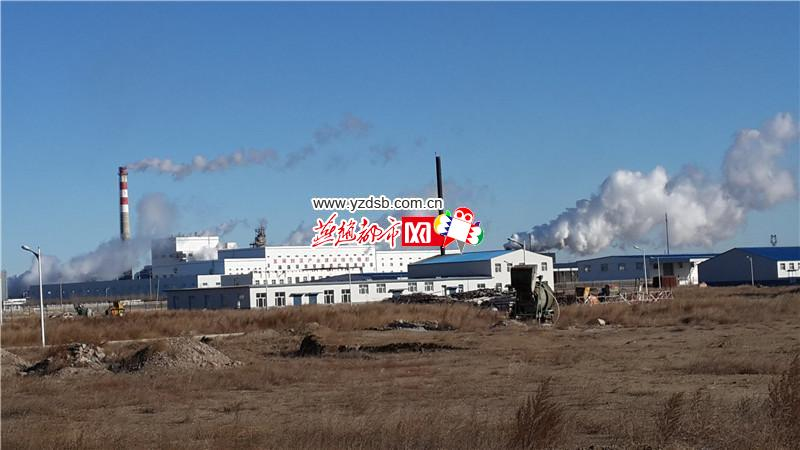dust: (501, 163, 733, 251), (109, 145, 266, 176)
